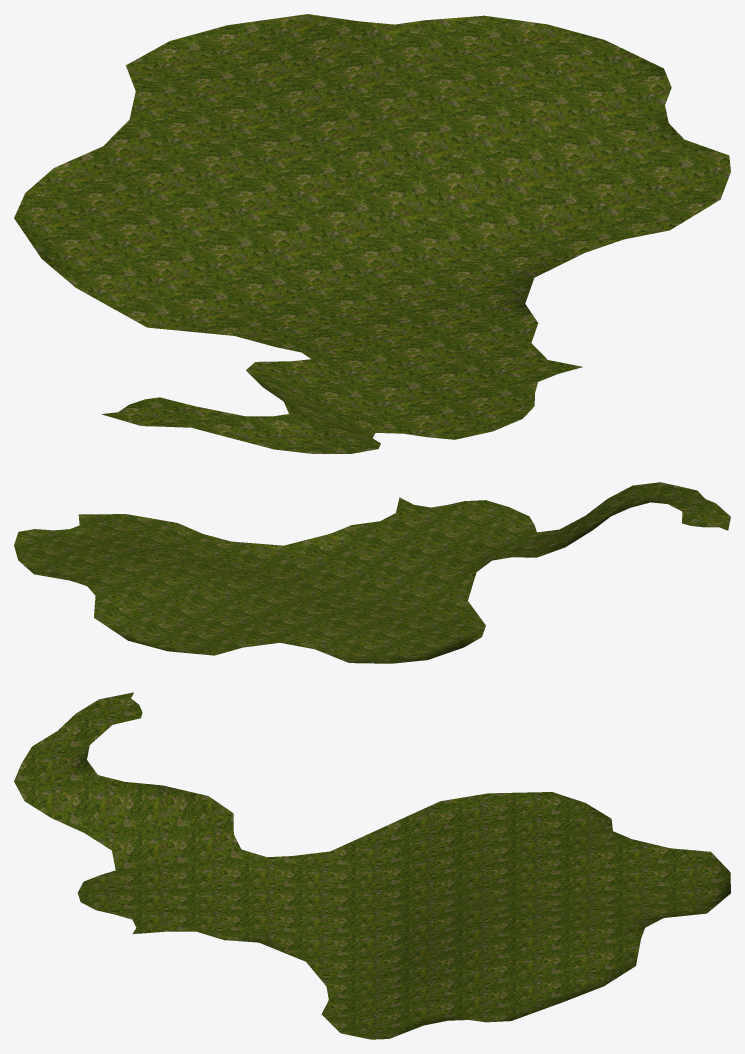
The model's file is OVERHILL_A_01_OBJECT44.fbx.
3 views of the same model, one above another, from view 1: azimuth 30°, elevation 25°; view 2: azimuth 150°, elevation 25°; view 3: azimuth 270°, elevation 25° (orthographic). The views are drawn at different scales.
Parts seen in each view (by area): view 1: OVERHILL_A_01_OBJECT44; view 2: OVERHILL_A_01_OBJECT44; view 3: OVERHILL_A_01_OBJECT44.
Boxes of the visible parts, x1,y1,x2,y2 form: OVERHILL_A_01_OBJECT44: (14, 14, 730, 453); OVERHILL_A_01_OBJECT44: (14, 482, 730, 663); OVERHILL_A_01_OBJECT44: (14, 692, 730, 1039).
Size of the model in its own units: 274898 by 28431 by 268399.
Materials: 1 (1 with a texture image).
